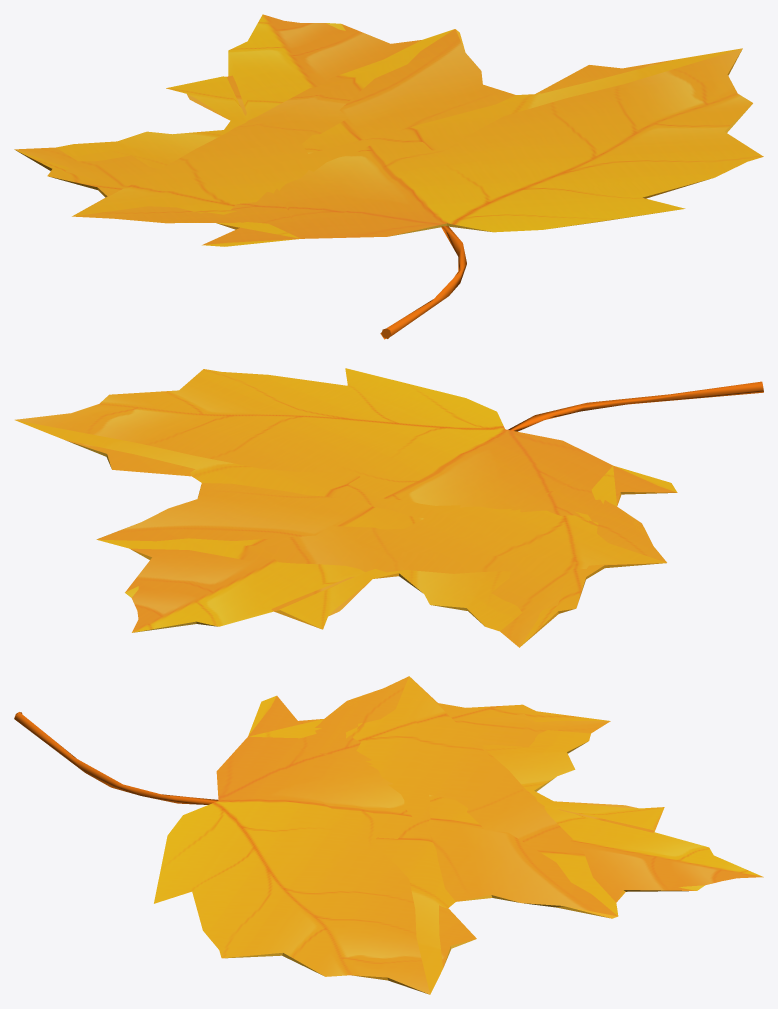
File: list3.fbx
3 renders of one model, top to bottom at view 1: azimuth 30°, elevation 25°; view 2: azimuth 150°, elevation 25°; view 3: azimuth 270°, elevation 25°, orthographic. The views are drawn at different scales.
Parts seen in each view (by area): view 1: list4; view 2: list4; view 3: list4.
Part boxes in pixels (<box>): list4: <box>14,14,763,339</box>; list4: <box>15,368,763,647</box>; list4: <box>14,676,763,994</box>.
Size of the model in its own units: 29.75 by 1.8 by 30.14.
2 materials, 1 textured.
